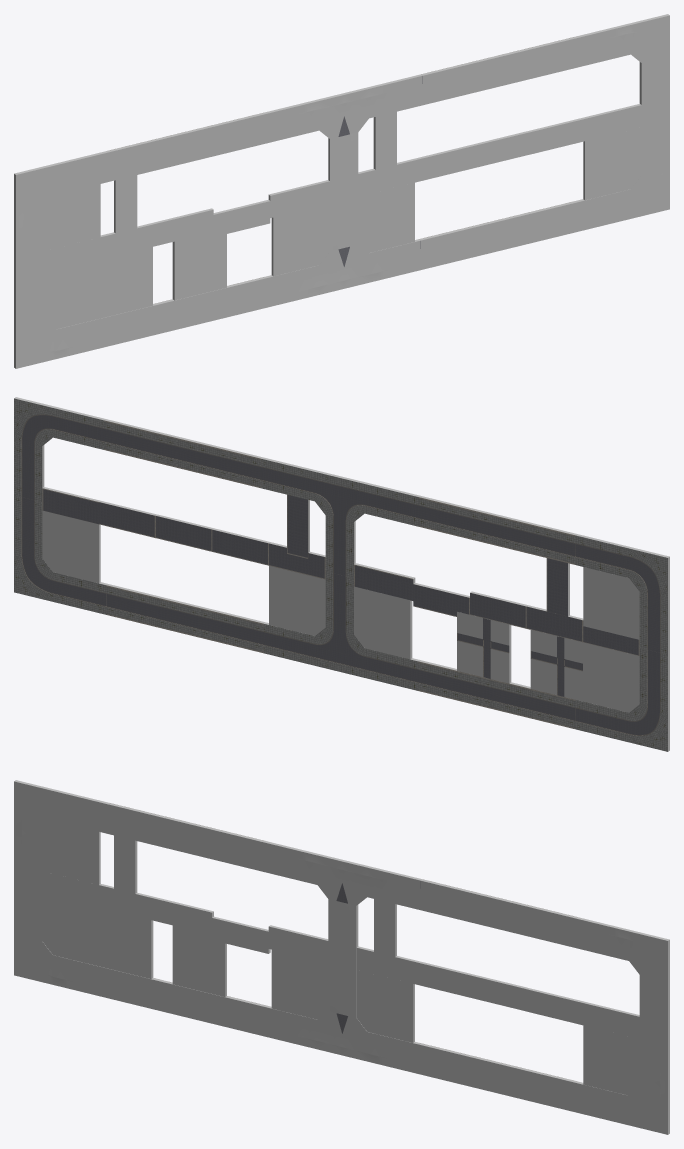
File: Road.fbx
3 renders of one model, top to bottom at view 1: azimuth 30°, elevation 25°; view 2: azimuth 150°, elevation 25°; view 3: azimuth 330°, elevation 25°, orthographic.
Visible parts, largest first — view 1: Road_02a_t__1_; view 2: Road_02a_t__1_; view 3: Road_02a_t__1_.
Part boxes in pixels (x1,y1,x2,y2): Road_02a_t__1_: (14,14,669,368); Road_02a_t__1_: (14,397,669,751); Road_02a_t__1_: (14,780,669,1134).
Bounding box in the file's own units: 41621 × 11794 × 218.
